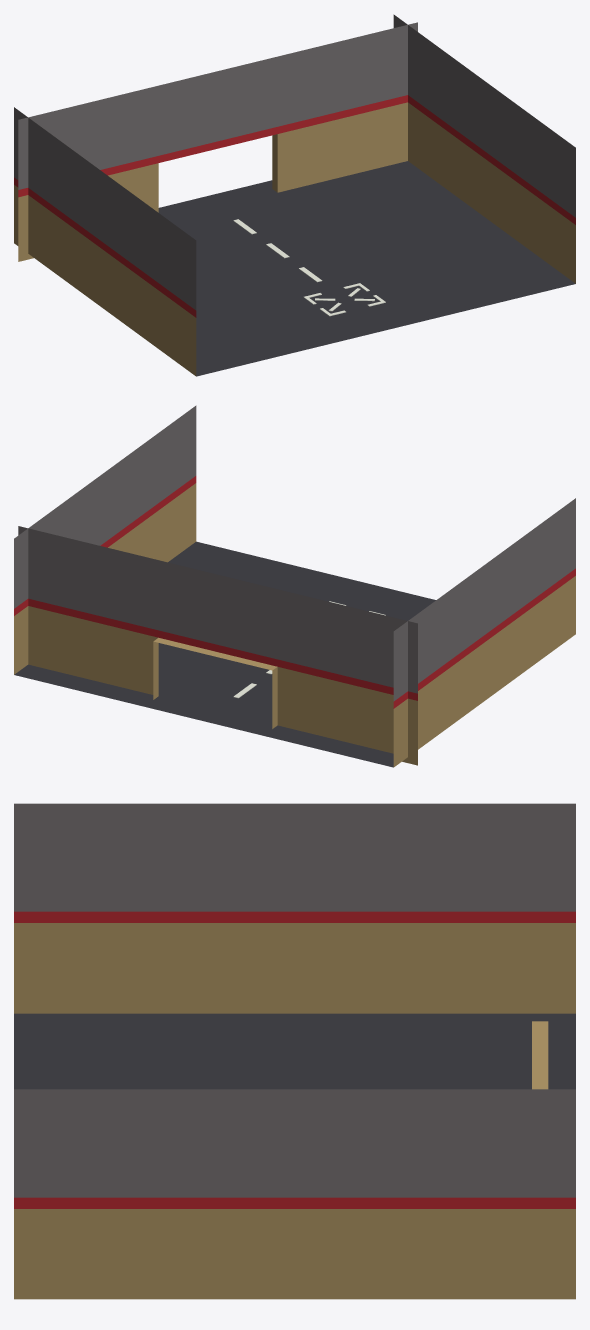
File: hangar.dae
The picture shows the model from 3 angles, top to bottom: view 1: azimuth 30°, elevation 25°; view 2: azimuth 150°, elevation 25°; view 3: azimuth 270°, elevation 25°; orthographic projection. The views are drawn at different scales.
Visible parts, largest first — view 1: Hangar; view 2: Hangar; view 3: Hangar.
Part boxes in pixels (x1,y1,x2,y2): Hangar: (14,14,575,376); Hangar: (14,405,575,767); Hangar: (14,803,575,1299).
Size of the model in its own units: 8.91 by 7.04 by 3.03.
Materials: 1 (1 with a texture image).
